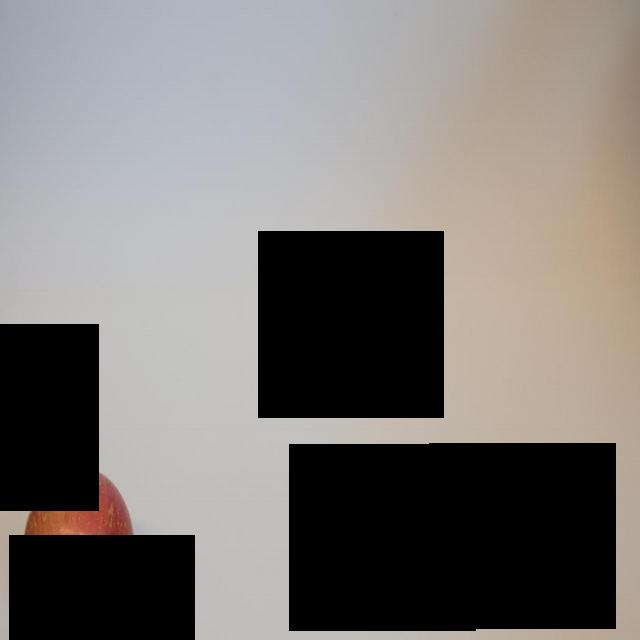apple: (15, 461, 139, 638)
